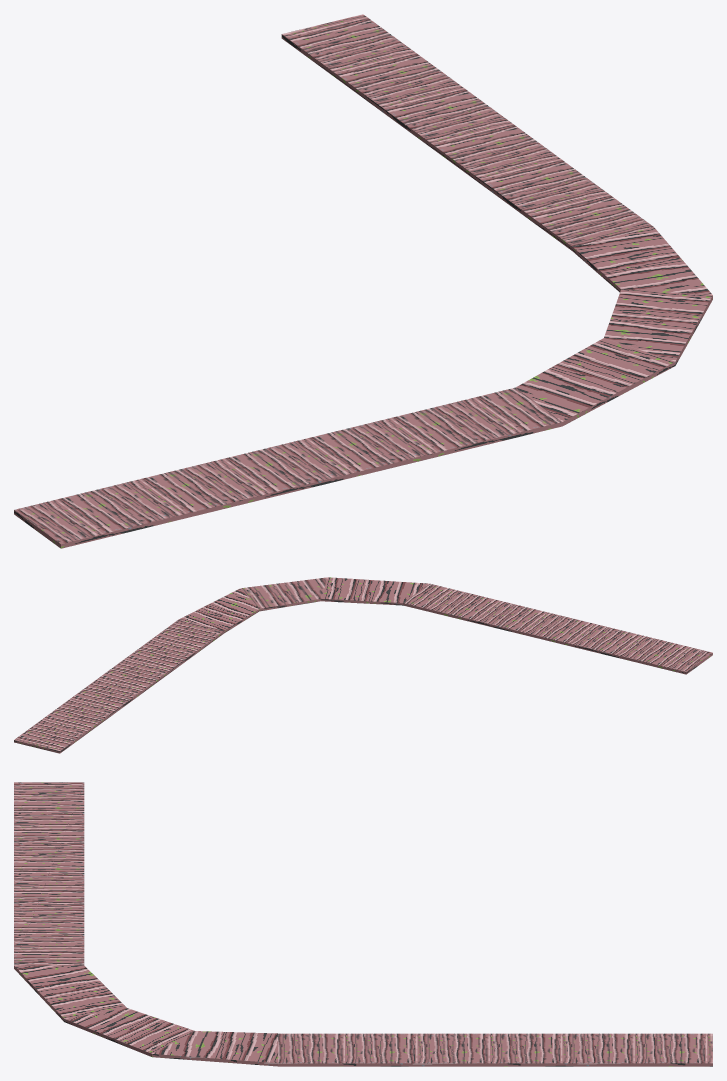
Rendered from Wood_bridge.obj.
3 views of the same model, one above another, from view 1: azimuth 30°, elevation 25°; view 2: azimuth 150°, elevation 25°; view 3: azimuth 270°, elevation 25° (orthographic). The views are drawn at different scales.
Parts seen in each view (by area): view 1: Wood_bridge_Cube.001; view 2: Wood_bridge_Cube.001; view 3: Wood_bridge_Cube.001.
Part boxes in pixels (box(x1,y1,x2,y2)): Wood_bridge_Cube.001: box(14, 14, 712, 548); Wood_bridge_Cube.001: box(14, 577, 712, 753); Wood_bridge_Cube.001: box(14, 782, 712, 1066).
Size of the model in its own units: 20.3 by 0.112 by 21.35.
